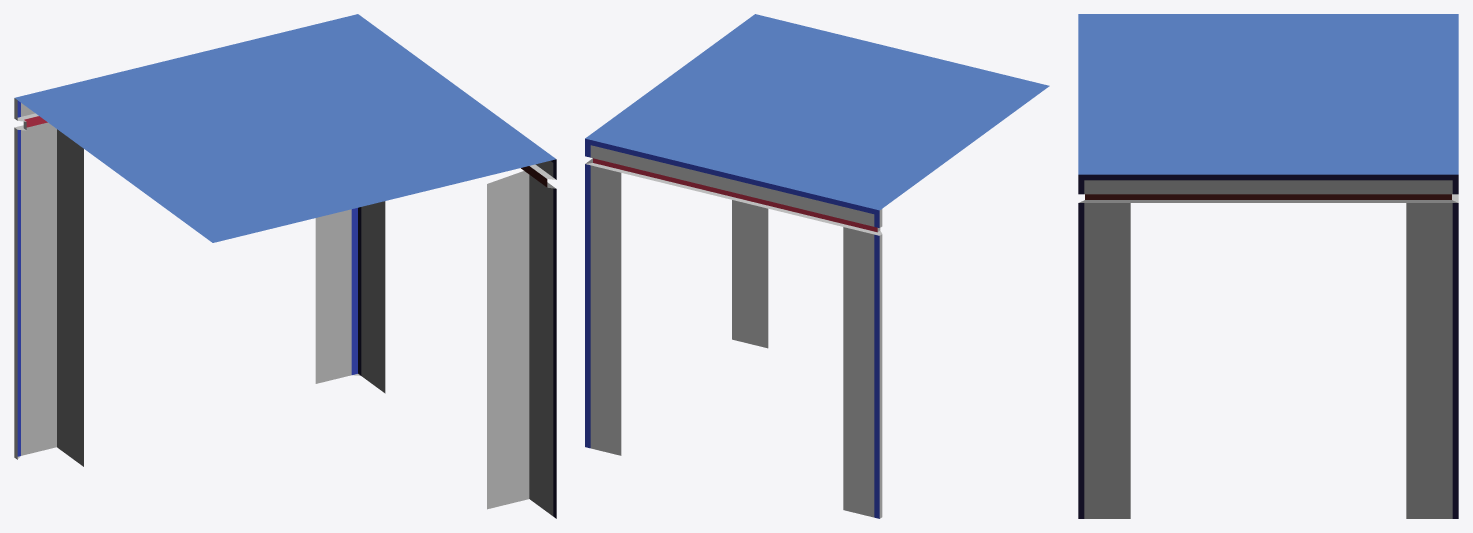
Rendered from tablePlatform.fbx.
3 renders of one model, left to right at view 1: azimuth 30°, elevation 25°; view 2: azimuth 150°, elevation 25°; view 3: azimuth 270°, elevation 25°, orthographic. The views are drawn at different scales.
Parts seen in each view (by area): view 1: Cube; view 2: Cube; view 3: Cube.
Part boxes in pixels (x1=…): Cube: x1=14, y1=14, x2=556, y2=518; Cube: x1=585, y1=14, x2=1049, y2=518; Cube: x1=1078, y1=14, x2=1458, y2=518.
Bounding box in the file's own units: 2 × 2 × 2.
